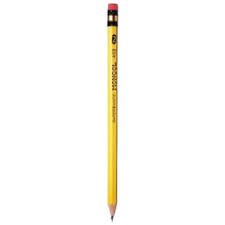Lapiz: (97, 1, 132, 225)
